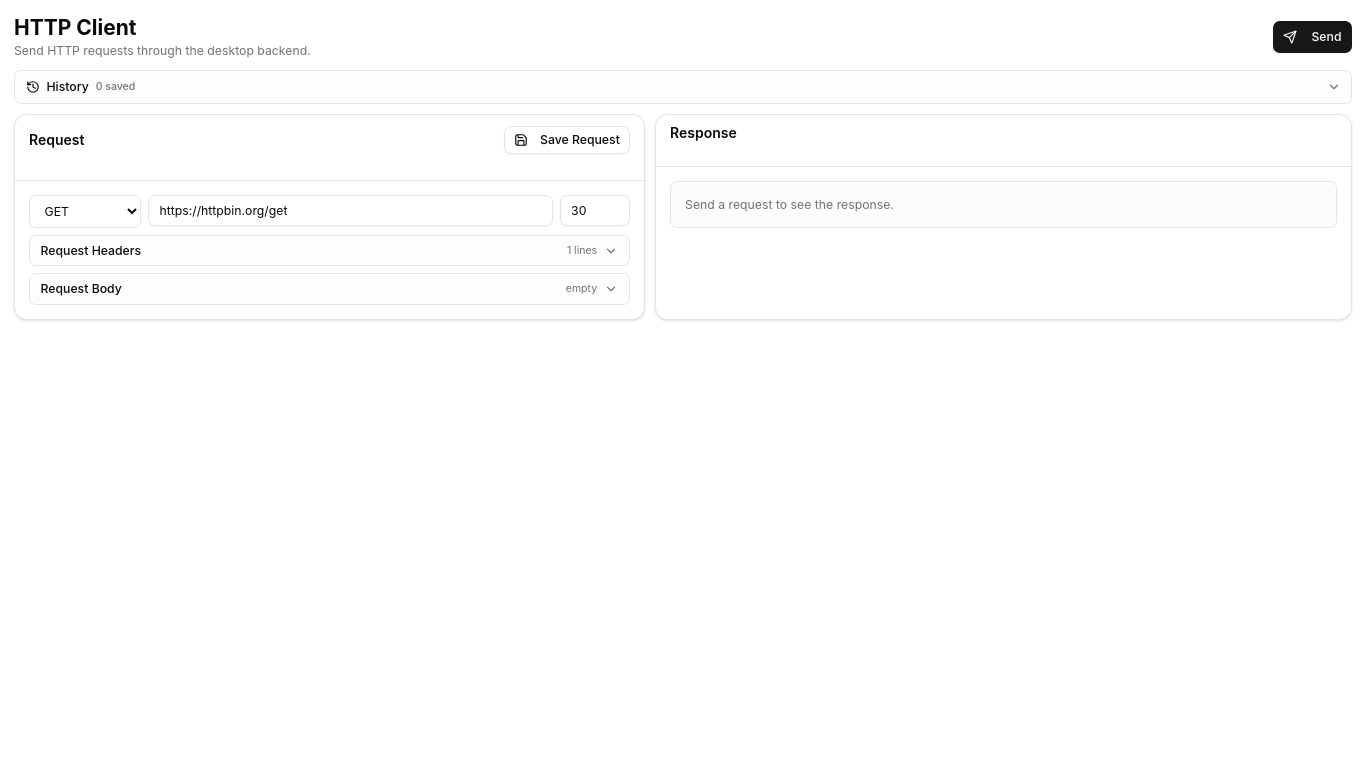
Scenario: HTTPClientView › uses compact panels with collapsible request editors
expect the field with placeholder "Request body..." is not shown: met
What coordinates should you click on to do the following:
click the button with test id "http-request-headers-trigger"
I would click on:
 (91, 250)
Its box is [29, 235, 630, 266].
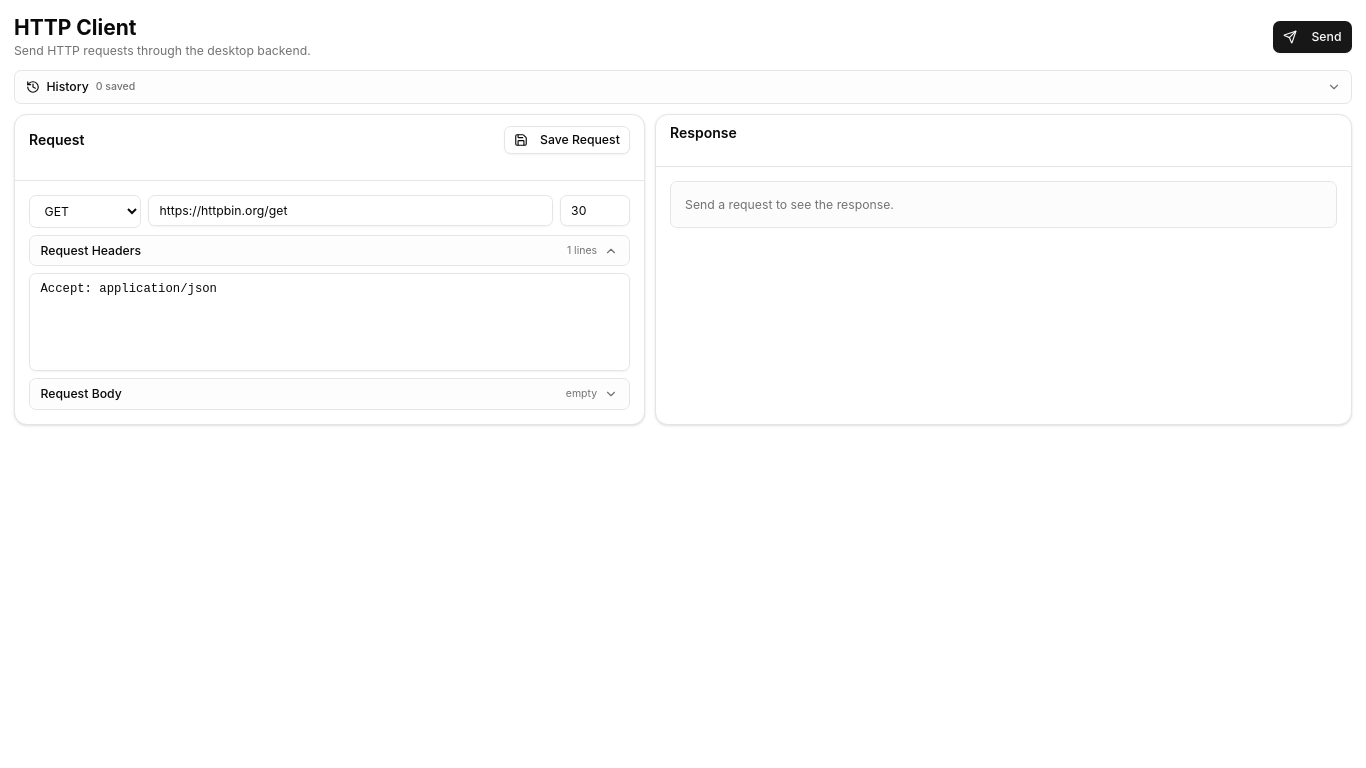
What coordinates should you click on to do the following:
click the button with test id "http-request-body-trigger"
I would click on:
 (81, 394)
Its box is [29, 378, 630, 410].
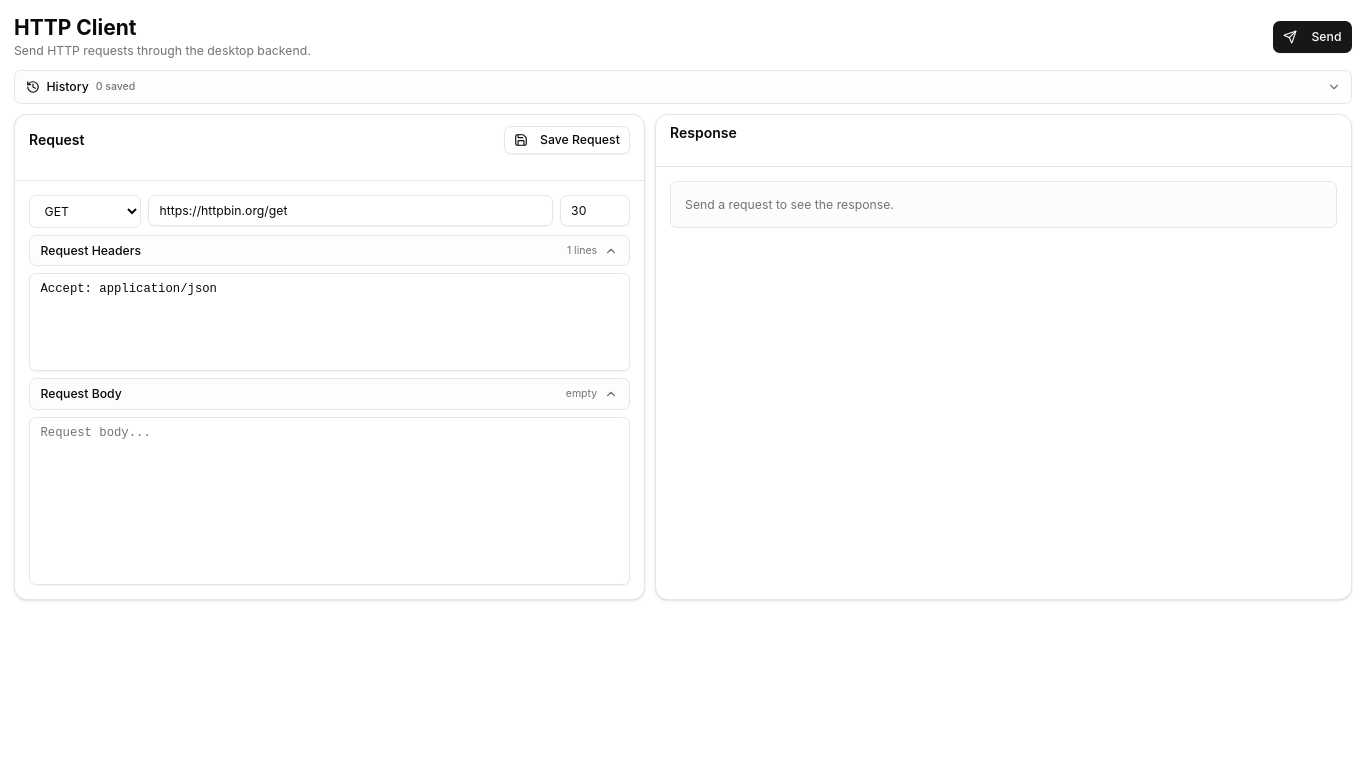
expect the text box with placeholder "Header-Name: value" is shown: met, box [29, 273, 630, 371]
expect the text box with placeholder "Request body..." is shown: met, box [29, 417, 630, 585]
